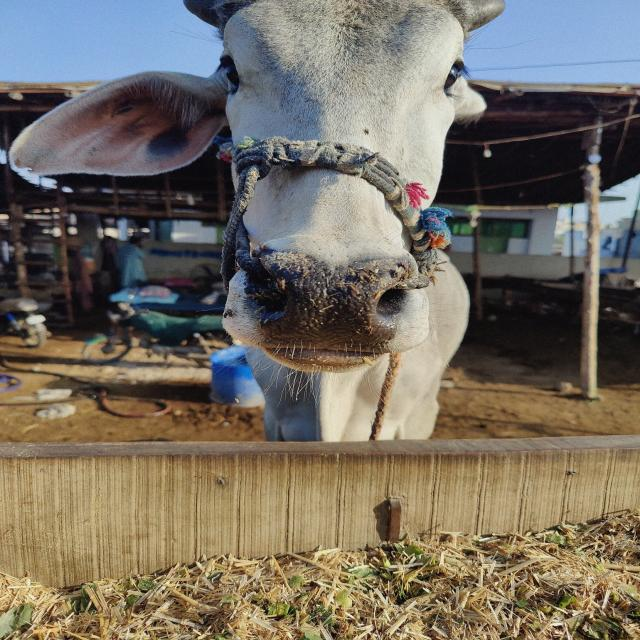muzzles: (230, 240, 420, 362)
